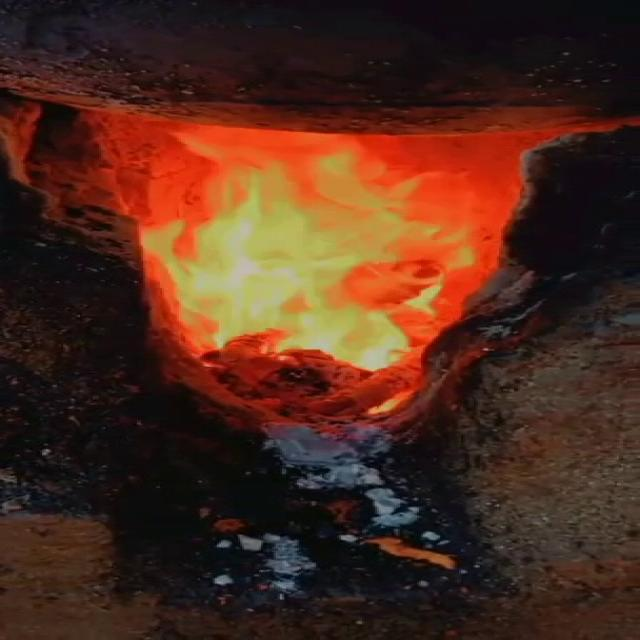Fire: (0, 101, 608, 449)
